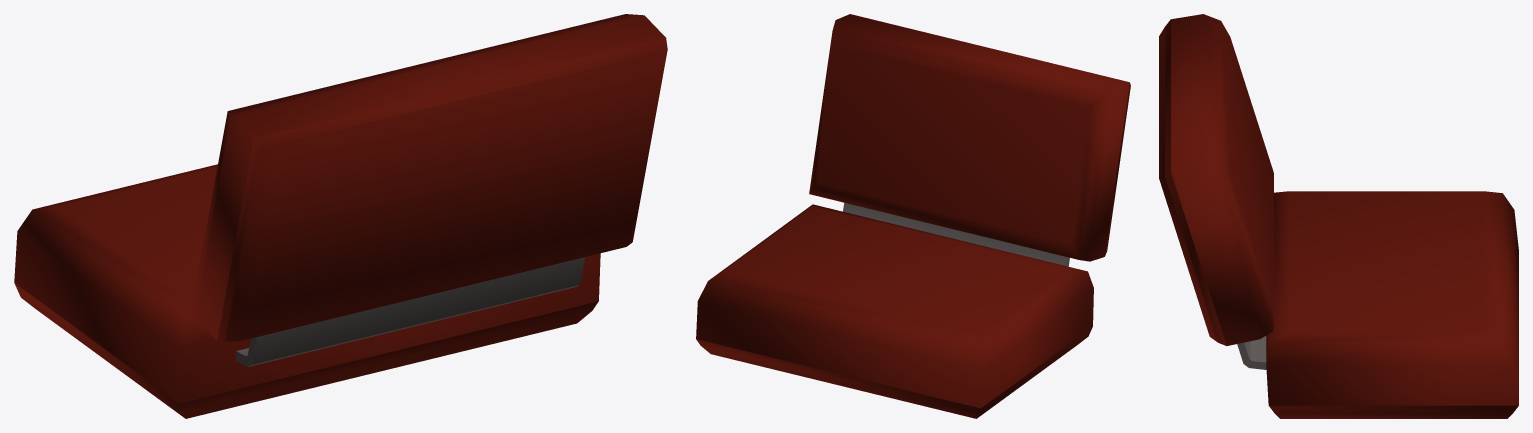
File: sofa2.FBX
3 views of the same model, side by side, from view 1: azimuth 30°, elevation 25°; view 2: azimuth 150°, elevation 25°; view 3: azimuth 270°, elevation 25° (orthographic). The views are drawn at different scales.
Visible parts, largest first — view 1: Prop_Sci_seat_002, Prop_Sci_seat_1, Box174; view 2: Prop_Sci_seat_002, Prop_Sci_seat_1, Box174; view 3: Prop_Sci_seat_1, Prop_Sci_seat_002, Box174.
Part boxes in pixels (x1,y1,x2,y2): Prop_Sci_seat_002: [193, 14, 667, 341]; Prop_Sci_seat_1: [14, 164, 600, 418]; Box174: [236, 257, 584, 366]; Prop_Sci_seat_002: [809, 14, 1130, 261]; Prop_Sci_seat_1: [696, 204, 1093, 418]; Box174: [843, 203, 1069, 266]; Prop_Sci_seat_1: [1266, 191, 1518, 418]; Prop_Sci_seat_002: [1159, 14, 1273, 345]; Box174: [1237, 336, 1266, 369].
Size of the model in its own units: 25.95 by 20.04 by 25.27.
